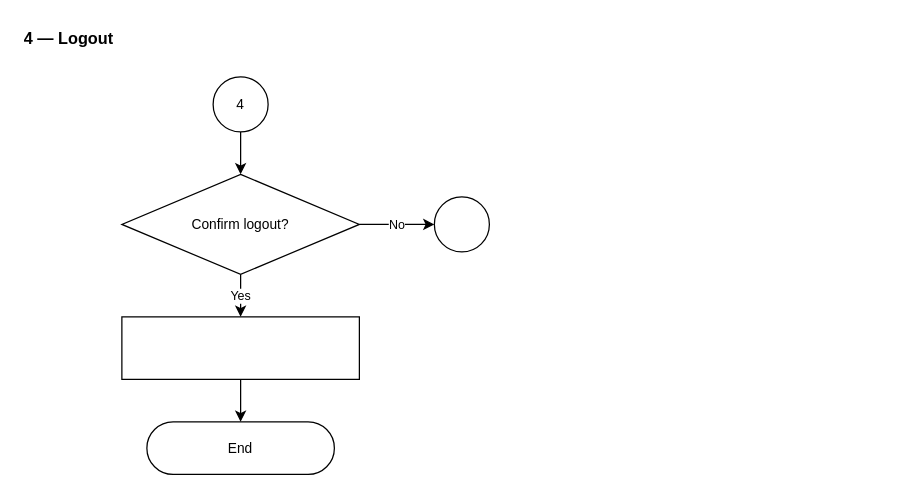
This 918x496 diagram has some shape labels left out. The centre of each missing label's shape, as x and y in pixels:
"AA" goes at pixel 461 224.
"End the session and clear the cookie" goes at pixel 240 347.
